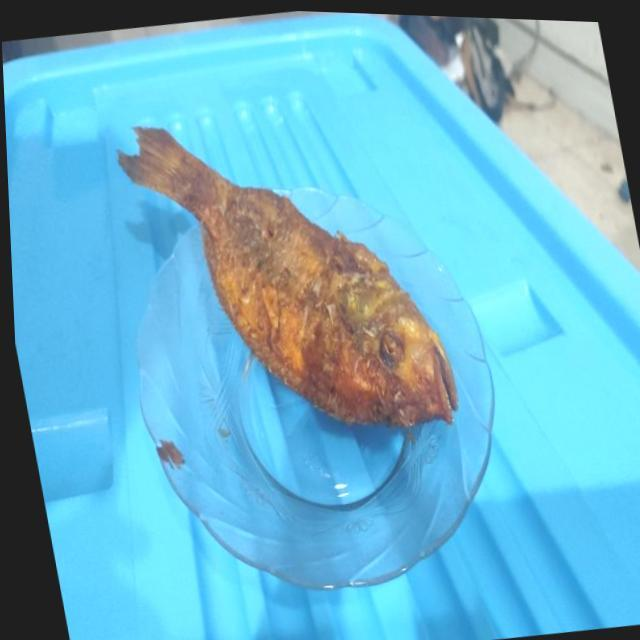ikan_mujair: (119, 126, 458, 427)
